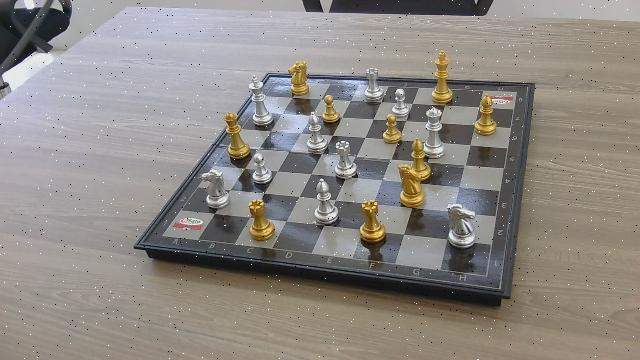black_bishop: (474, 92, 496, 139), (409, 136, 425, 166)
black_king: (431, 49, 455, 105)
black_knight: (399, 163, 423, 208), (288, 61, 311, 97)
black_pawn: (383, 113, 402, 145), (322, 94, 340, 125)
black_queen: (223, 113, 250, 158)
black_rook: (358, 200, 389, 245), (248, 200, 277, 242)
white_bishop: (315, 178, 339, 224), (306, 111, 327, 153)
white_king: (248, 75, 272, 128)
white_knight: (446, 202, 479, 250), (201, 167, 230, 209)
white_pawn: (253, 155, 274, 183), (393, 88, 410, 116)
white_queen: (425, 107, 445, 157)
white_rook: (335, 141, 358, 179), (364, 67, 383, 102)
